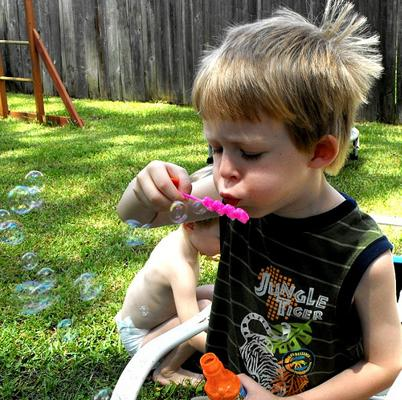person: (116, 15, 402, 400)
